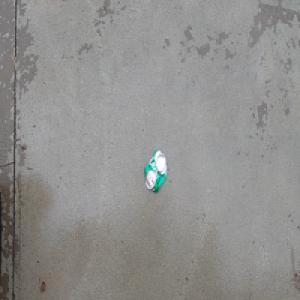SodaCan: (143, 148, 168, 194)
